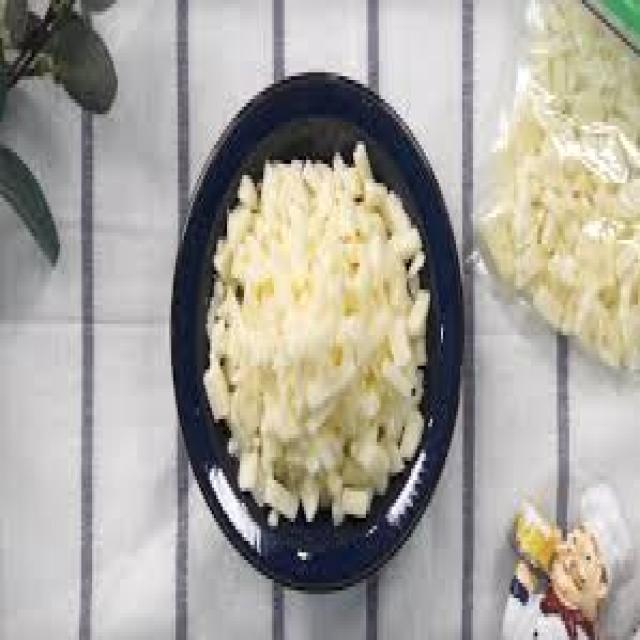Cheese: (210, 156, 424, 503)
